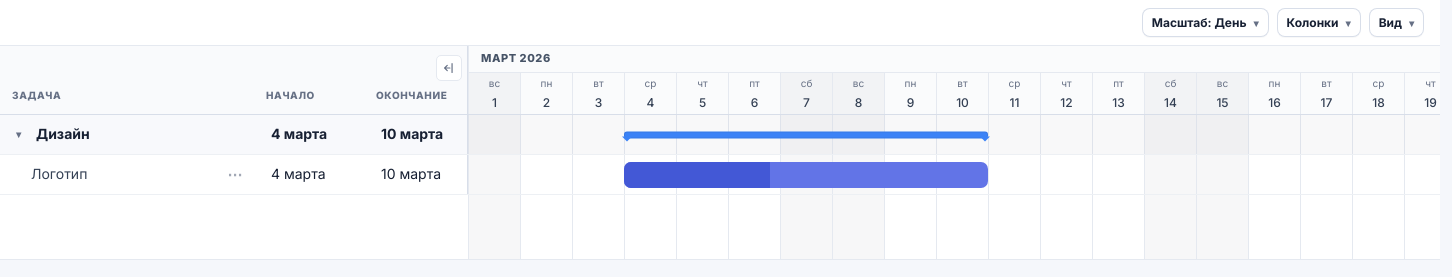
карточка наведения на полоску › называет статус, даты и готовность
Hover over the button named "Логотип": x=697, y=174 [624, 162, 988, 188]
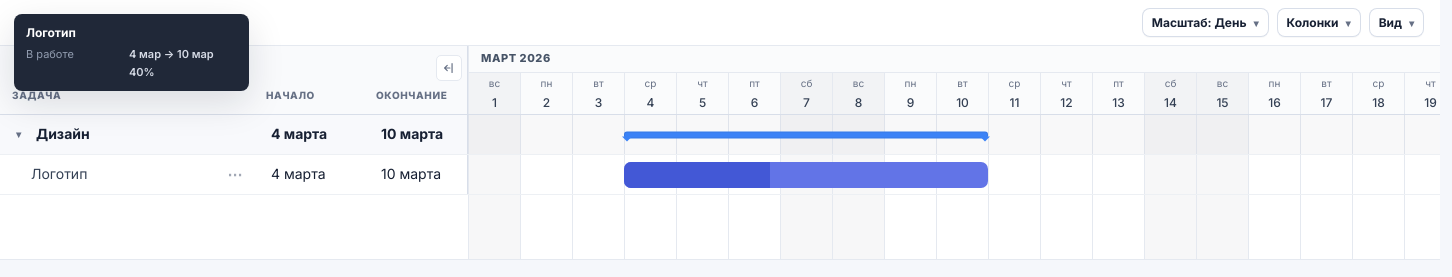
Expected: the element with test id "bar-tip" shows "Логотип", [26, 25, 76, 40]
Expected: the element with test id "bar-tip" shows "В работе", [26, 47, 74, 61]
Expected: the element with test id "bar-tip" shows "4 мар → 10 мар", [129, 47, 214, 61]
